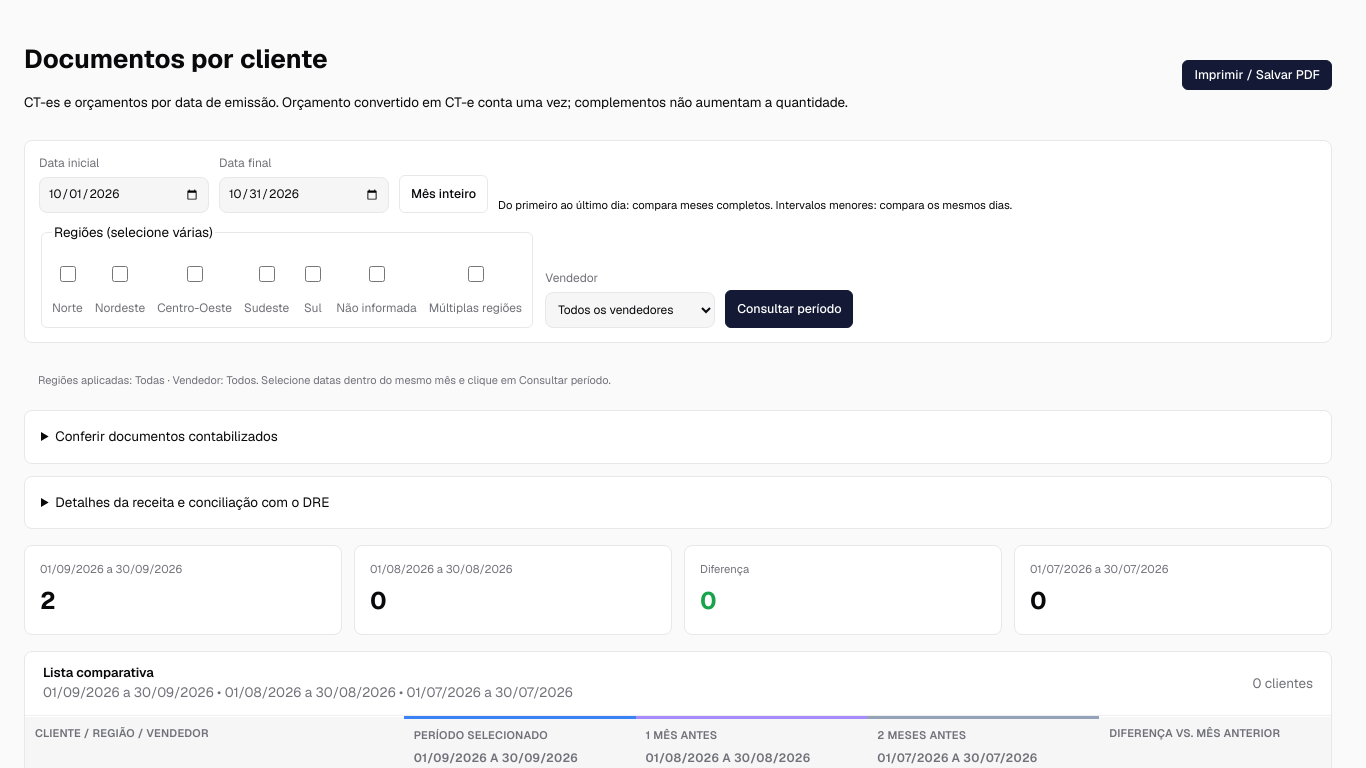
it: mostra documentos e permite conferir CT-es e orçamentos por período
Step 1. Click the heading "Conferir documentos contabilizados" → point(166, 436), box 55,427 -> 278,445
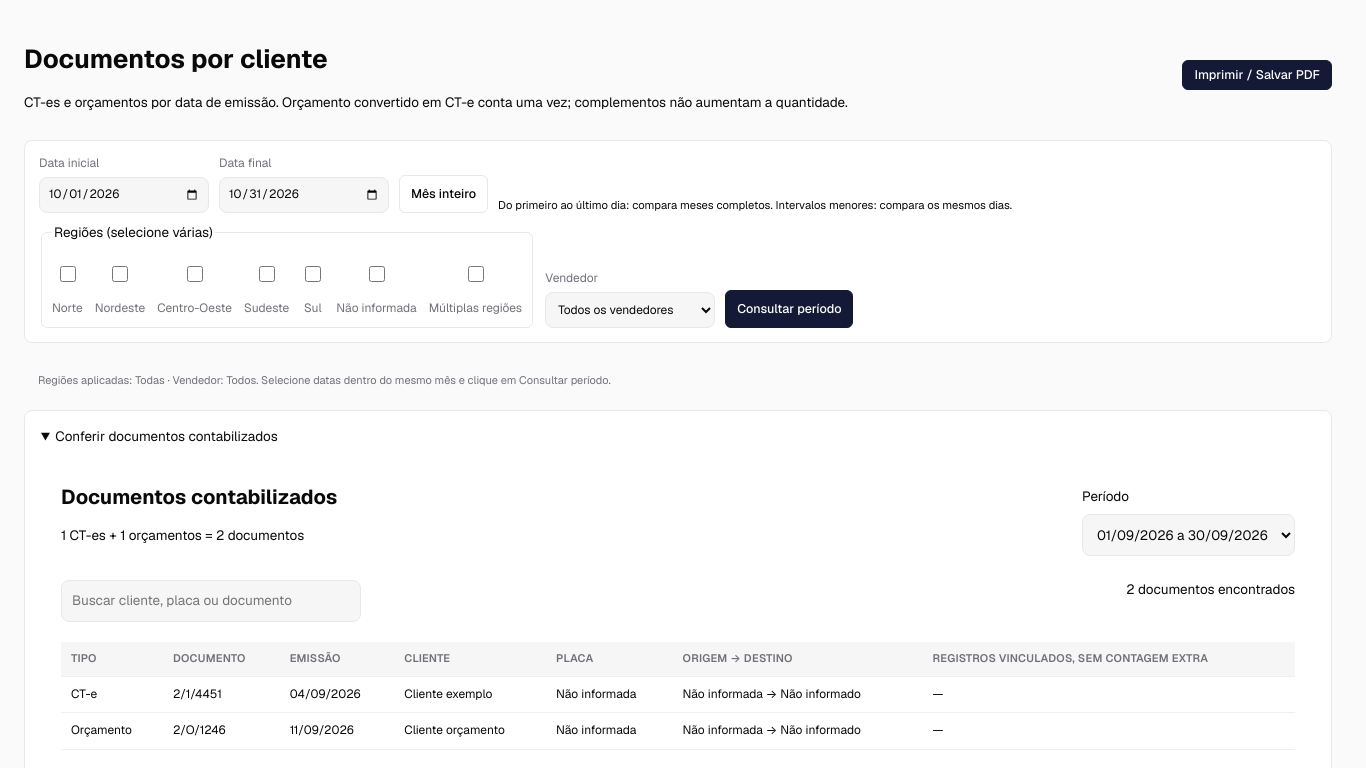
expect the text "1 CT-es + 1 orçamentos = 2 documentos" is shown: met, box 61,525 -> 337,547
expect the text "2/1/4451" is shown: met, box 163,676 -> 280,713
Step 2. Type "1246" into the field named "Buscar documentos" → point(211, 601), box 61,580 -> 361,622
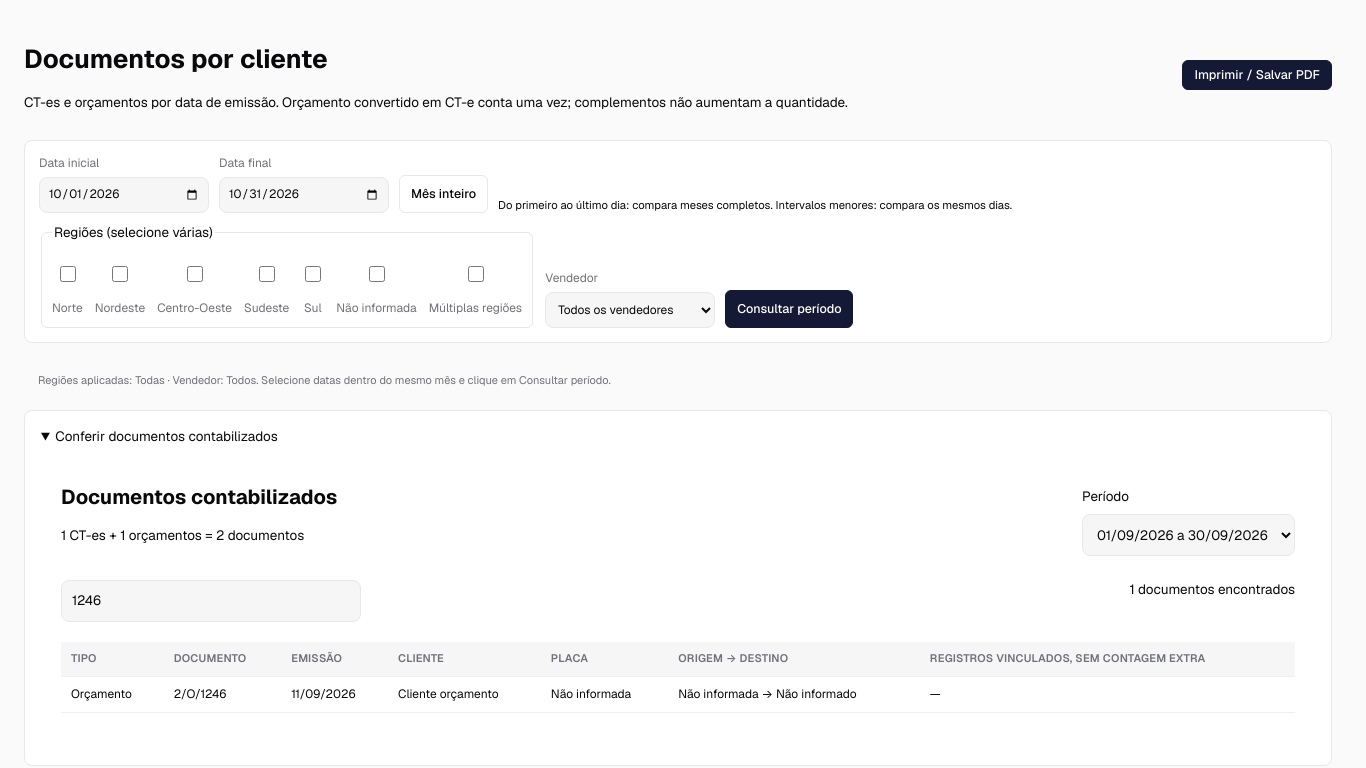
expect the text "2/O/1246" is shown: met, box 164,676 -> 281,713
expect the text "2/1/4451" is gone: met
Step 3. Select "01/08/2026 a 30/08/2026" in the dropdown named "Período da conferência" → point(1188, 535), box 1082,514 -> 1295,556
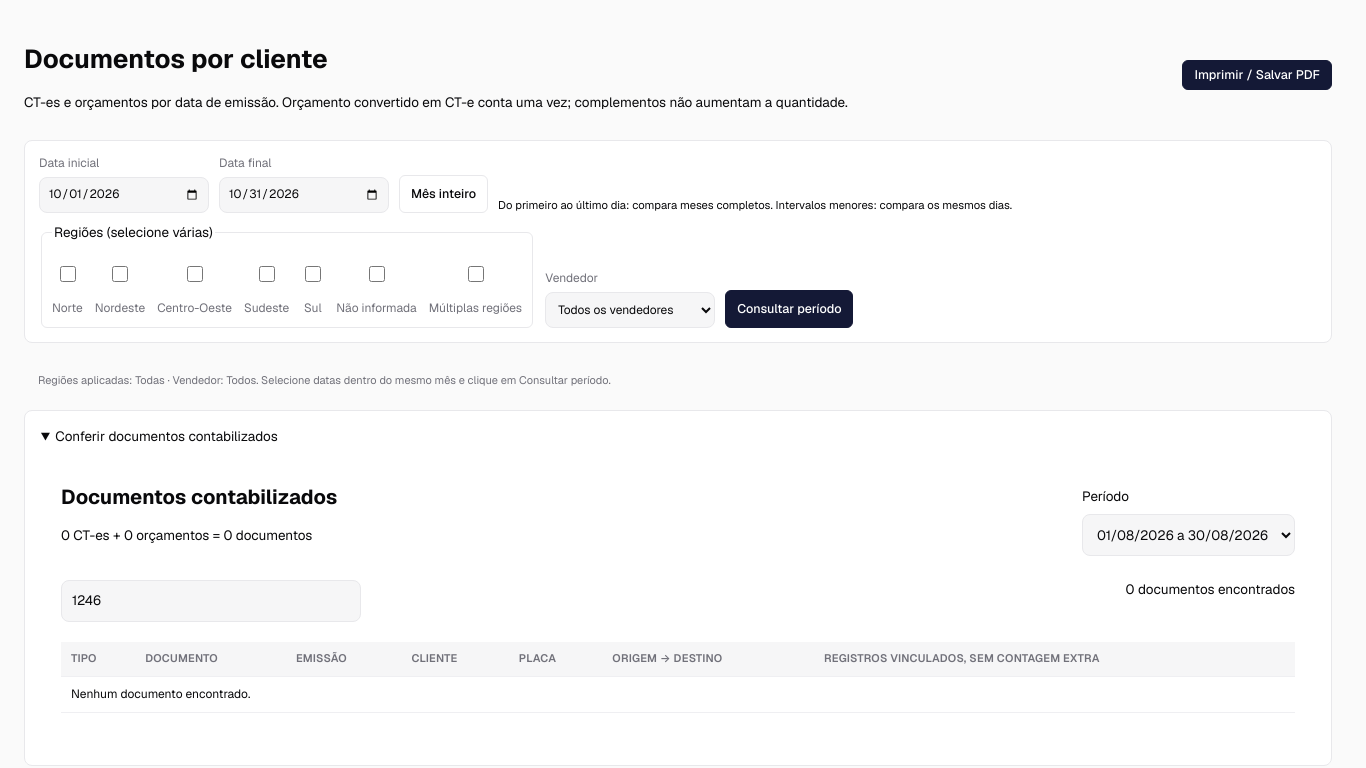
expect the text "Nenhum documento encontrado." is shown: met, box 61,676 -> 1295,713
